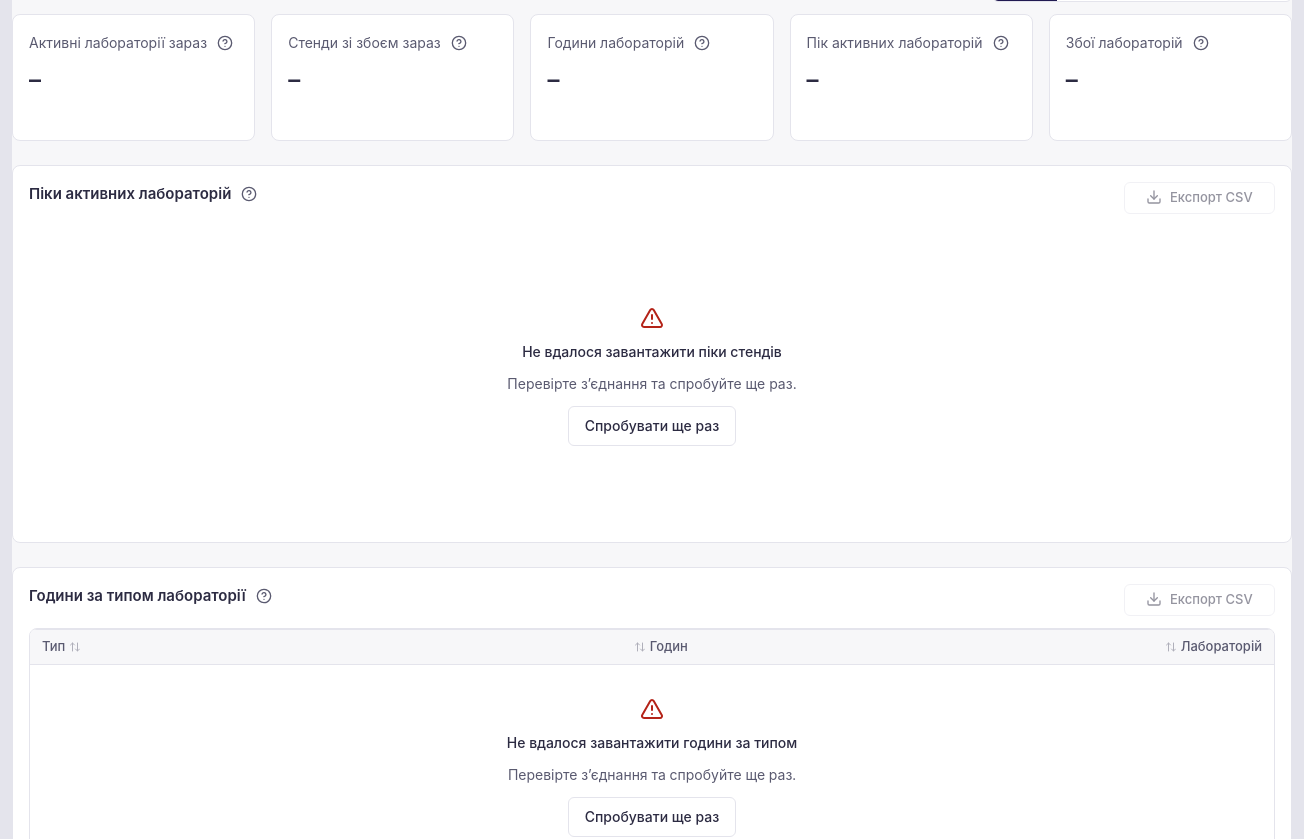
Test: infrastructure analytics page › shows LoadError with a retry that reloads
The image size is (1304, 839).
What coordinates should you click on to do the following:
click the button "Спробувати ще раз" below "Не вдалося завантажити піки стендів"
I would click on:
 (652, 426)
Its box is [568, 406, 736, 446].
(page scrolled)
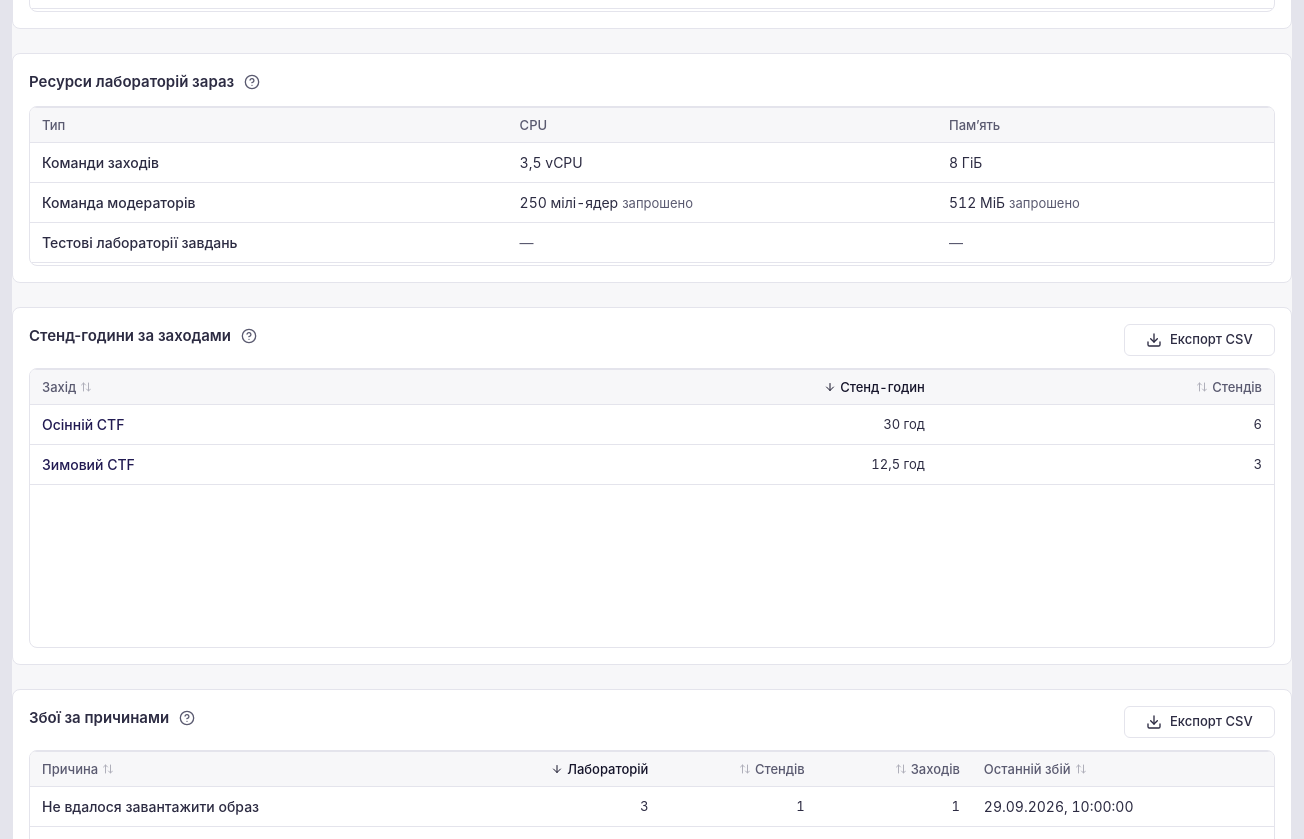
Now the link "Осінній CTF" is shown, box [42, 416, 124, 434]
